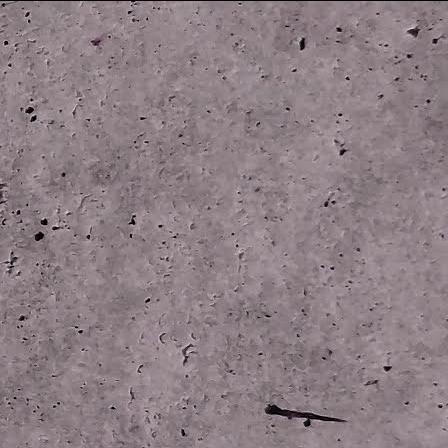spalling: (298, 35, 306, 49)
